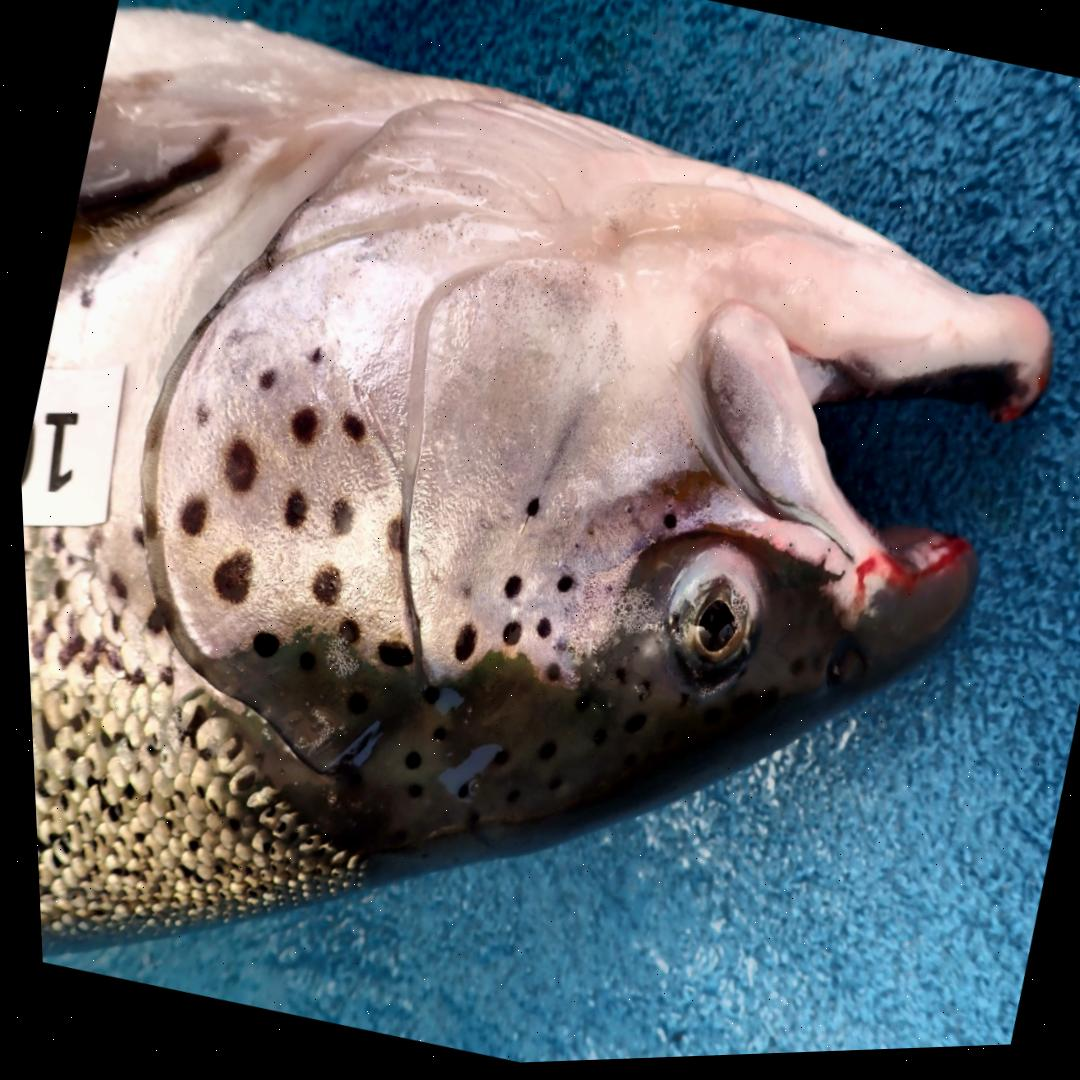spot: (205, 553, 246, 605), (219, 441, 251, 494), (305, 570, 334, 608), (173, 499, 201, 536), (285, 410, 313, 445), (370, 643, 405, 669), (446, 626, 470, 663), (278, 492, 301, 529), (325, 501, 347, 537), (336, 414, 361, 445), (379, 519, 399, 557), (245, 631, 272, 658), (331, 620, 353, 645), (495, 624, 515, 648), (542, 637, 562, 659), (497, 579, 515, 602), (254, 370, 271, 391), (529, 620, 545, 641), (537, 665, 553, 686), (191, 404, 205, 428), (415, 688, 432, 706), (549, 579, 566, 596), (304, 347, 318, 367), (292, 653, 307, 671), (520, 500, 533, 520), (656, 518, 671, 533), (617, 504, 629, 521), (454, 586, 467, 601), (580, 530, 589, 542), (566, 545, 574, 553)
